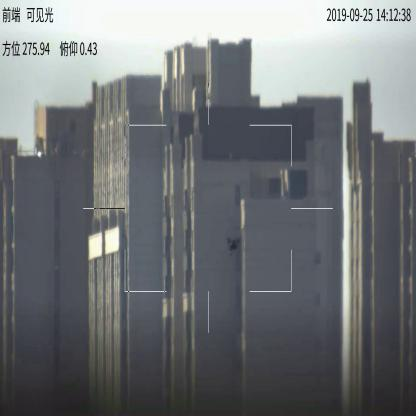uav: (225, 233, 242, 256)
